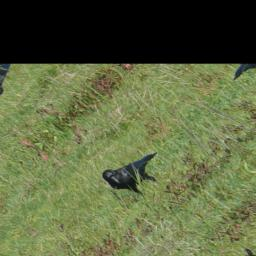Crow: (98, 137, 178, 205)
